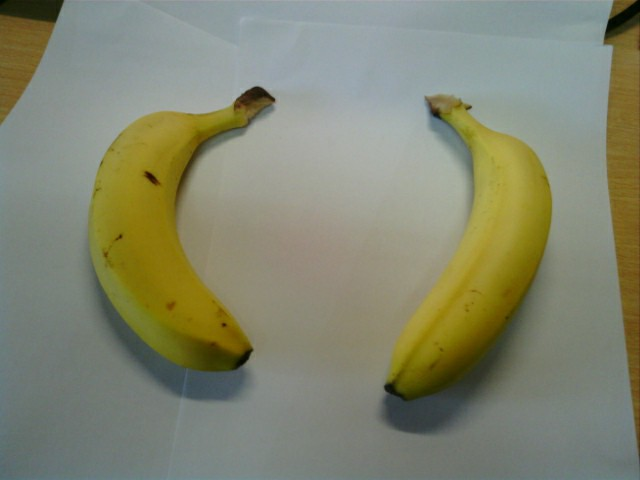fresh_banana: (380, 92, 554, 403)
normal_banana: (85, 96, 254, 371)
